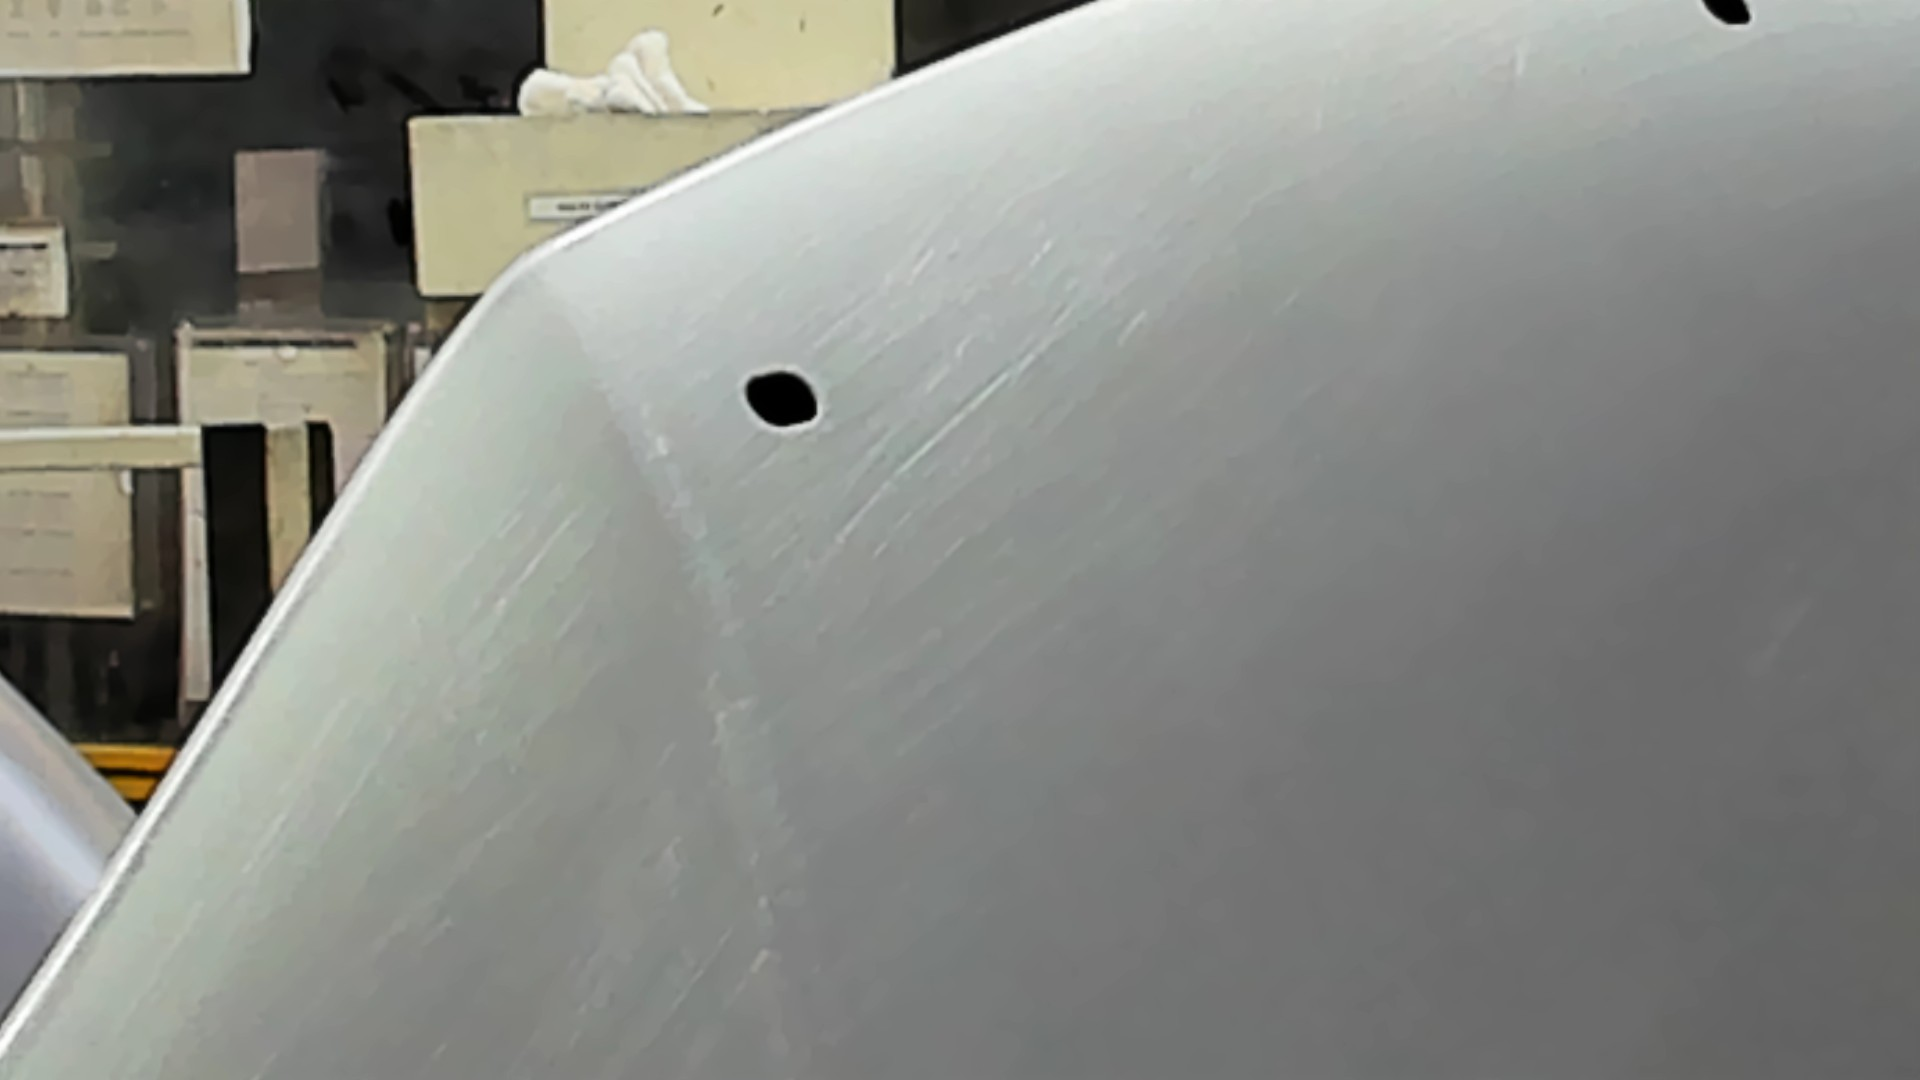amorfo: (742, 367, 825, 435), (1704, 1, 1754, 29)
